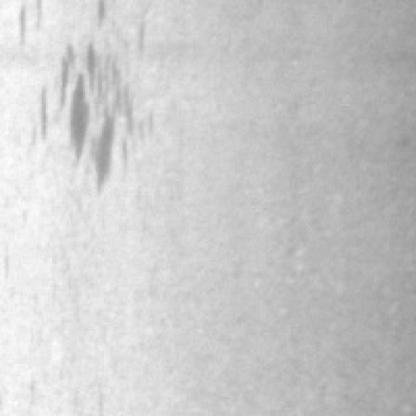inclusion: (27, 23, 148, 189)
